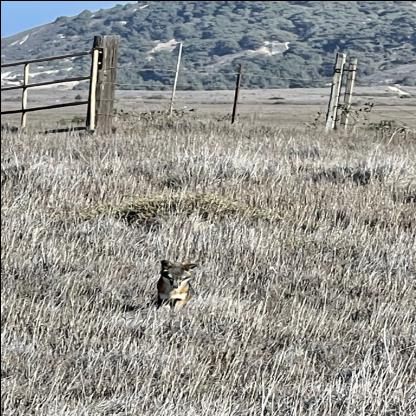zorro: (146, 255, 206, 308)
